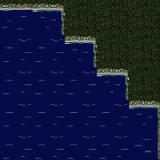Interaction: (0, 0, 71, 17), (89, 47, 107, 83), (72, 30, 106, 47), (107, 65, 139, 83), (55, 16, 72, 48), (123, 84, 140, 115), (140, 97, 160, 115)
Slow: (0, 12, 60, 160), (60, 45, 93, 160), (93, 76, 125, 160), (125, 107, 157, 160)
